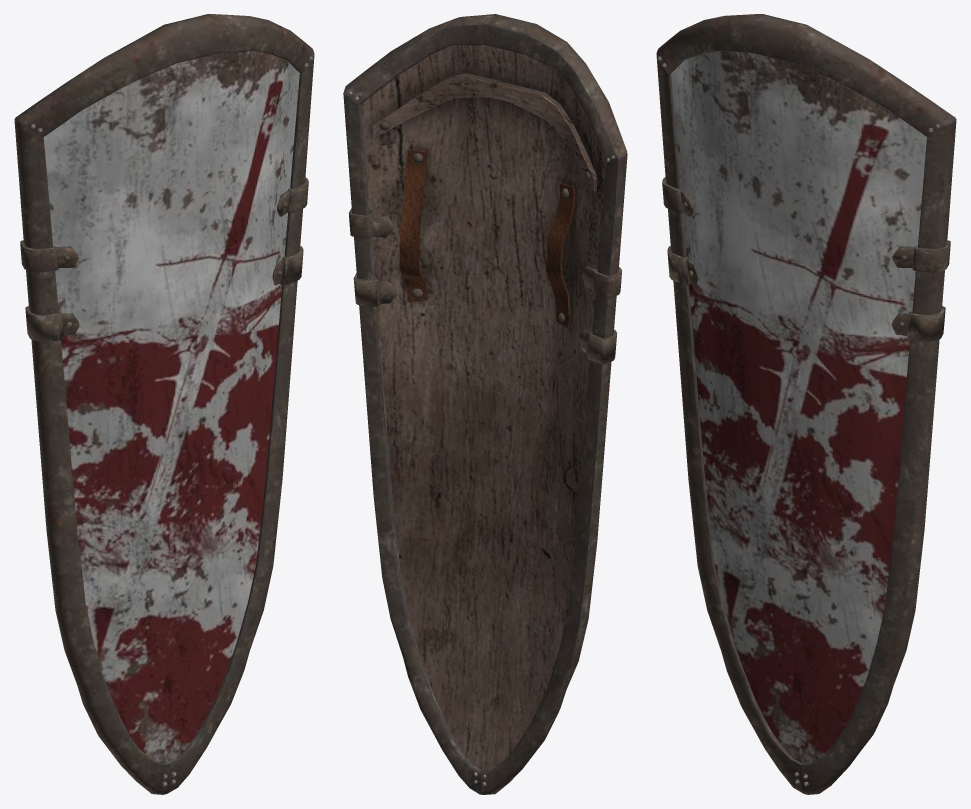
Rendered from kite_shield.glb.
3 views of the same model, side by side, from view 1: azimuth 30°, elevation 25°; view 2: azimuth 150°, elevation 25°; view 3: azimuth 330°, elevation 25° (orthographic). The views are drawn at different scales.
Visible parts, largest first — view 1: kite_shield_body, kite_shield_metal_trim; view 2: kite_shield_body, kite_shield_metal_trim; view 3: kite_shield_body, kite_shield_metal_trim.
Part boxes in pixels (x1=…): kite_shield_body: x1=43, y1=51, x2=299, y2=764; kite_shield_metal_trim: x1=14, y1=14, x2=314, y2=794; kite_shield_body: x1=361, y1=45, x2=606, y2=770; kite_shield_metal_trim: x1=343, y1=14, x2=627, y2=794; kite_shield_body: x1=671, y1=51, x2=927, y2=763; kite_shield_metal_trim: x1=656, y1=14, x2=956, y2=794.
Size of the model in its own units: 0.5433 by 1.39 by 0.1346.
2 materials, 2 textured.
